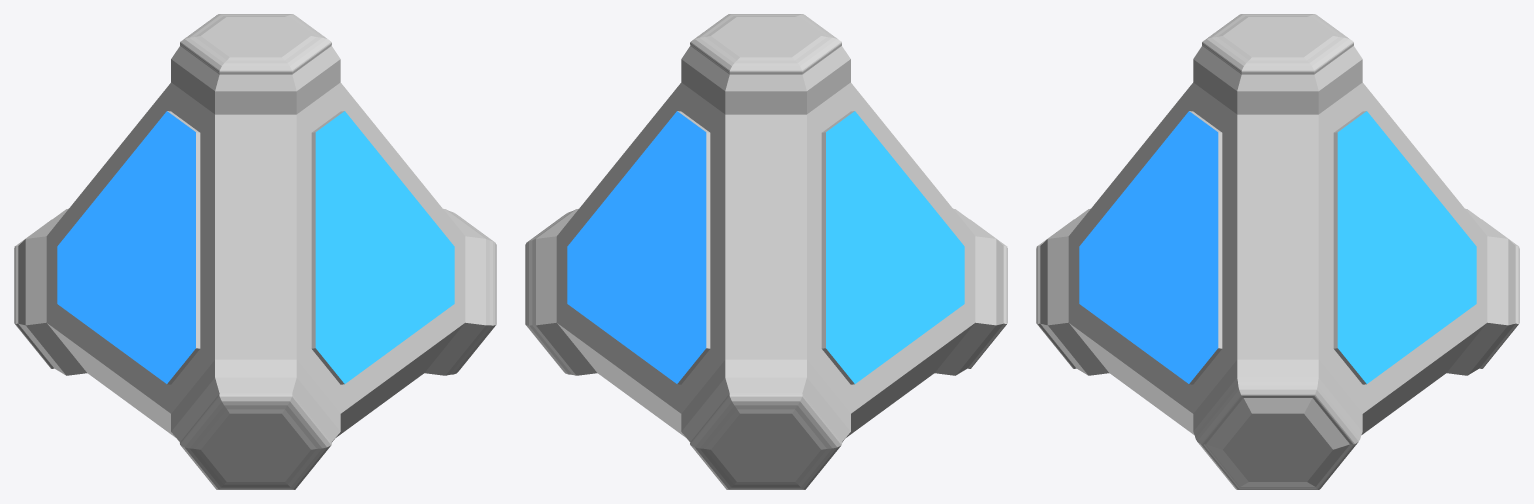
File: Trungle.glb
3 views of the same model, side by side, from view 1: azimuth 30°, elevation 25°; view 2: azimuth 150°, elevation 25°; view 3: azimuth 270°, elevation 25° (orthographic).
Visible parts, largest first — view 1: BODY, FACES; view 2: BODY, FACES; view 3: BODY, FACES.
Part boxes in pixels (box(x1,y1,x2,y2)): BODY: box(14, 14, 496, 489); FACES: box(57, 111, 454, 383); BODY: box(525, 14, 1007, 489); FACES: box(567, 111, 964, 383); BODY: box(1036, 14, 1519, 489); FACES: box(1079, 111, 1476, 383).
Bounding box in the file's own units: 2.15 × 1.97 × 2.36.
